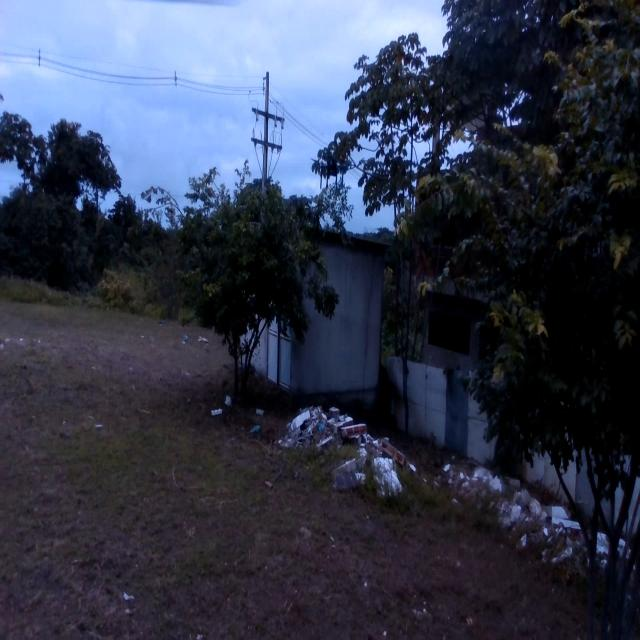-uav-: (310, 151, 354, 196)
